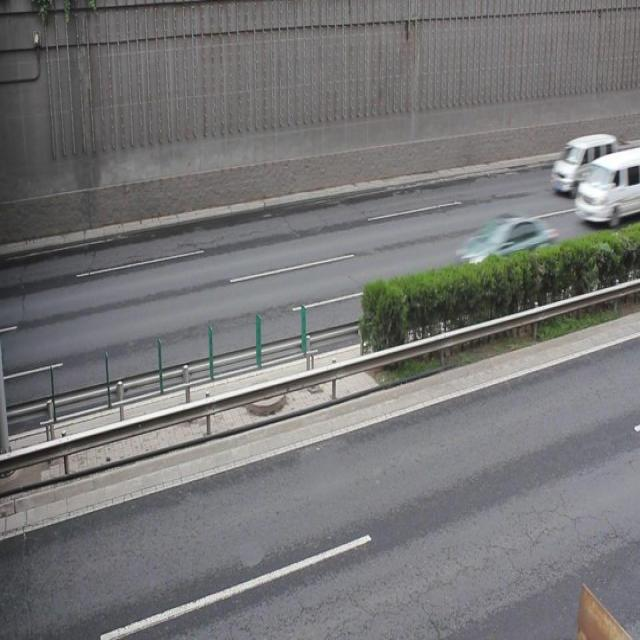car: (456, 213, 556, 290)
truck: (572, 150, 640, 227), (549, 133, 616, 194)
